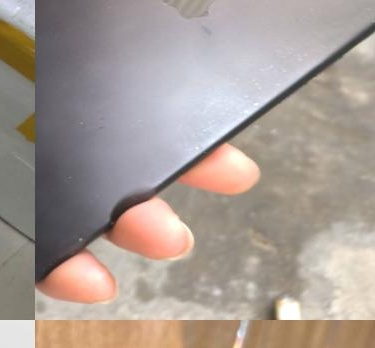scratch: (198, 116, 219, 134), (251, 76, 266, 91), (71, 115, 85, 126), (260, 62, 273, 73), (229, 75, 239, 86), (278, 65, 289, 74), (90, 190, 101, 199), (192, 141, 202, 150), (66, 171, 75, 181), (251, 98, 262, 106), (275, 48, 286, 56), (76, 233, 83, 242), (365, 18, 375, 24), (242, 90, 249, 98), (240, 107, 249, 113), (274, 80, 282, 85), (164, 2, 170, 7)
